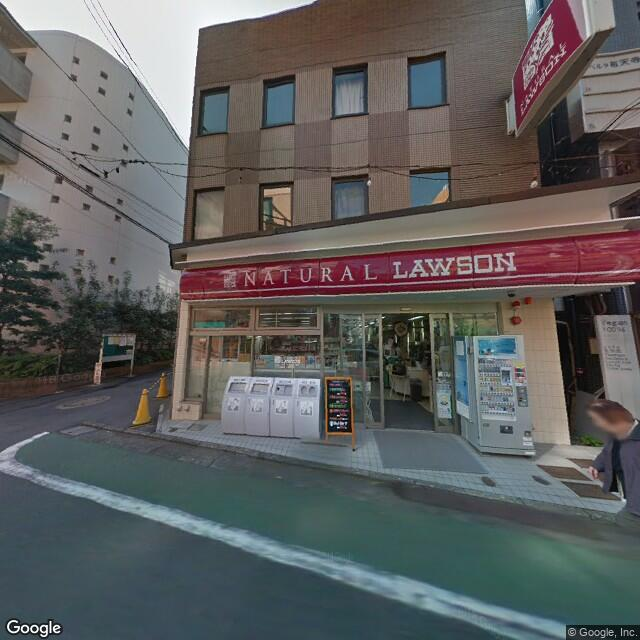lawson: (178, 222, 638, 303), (508, 1, 578, 129)
